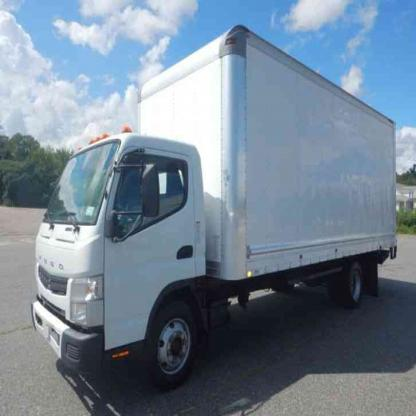truck: (31, 26, 400, 388)
